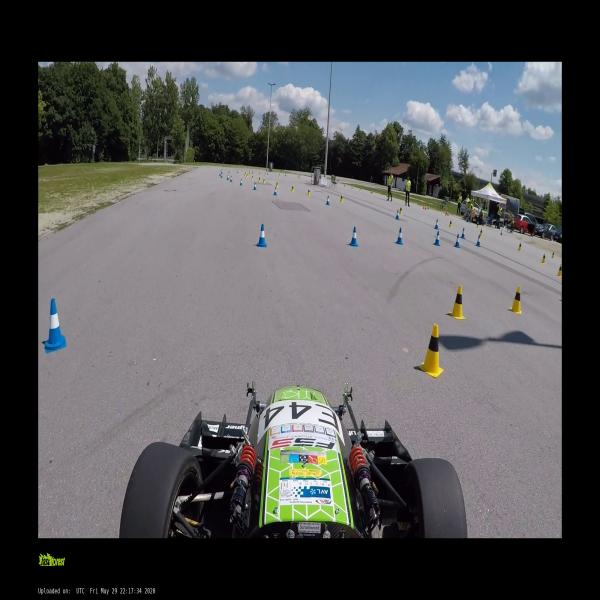blue_cone: (46, 298, 66, 351), (256, 224, 267, 247), (348, 227, 358, 247), (396, 227, 403, 245), (433, 231, 441, 246), (454, 233, 460, 249), (460, 226, 466, 240), (476, 235, 481, 248), (325, 196, 330, 205), (434, 219, 438, 230), (395, 210, 399, 221), (273, 188, 277, 196), (252, 183, 256, 190), (229, 176, 233, 183), (239, 178, 242, 186), (499, 230, 503, 236), (228, 176, 232, 182), (226, 175, 230, 180), (219, 170, 222, 175), (220, 169, 223, 174), (220, 173, 222, 178), (252, 170, 254, 174)
orange_cone: (423, 205, 427, 210), (422, 205, 425, 210)
yellow_cone: (420, 324, 442, 376), (448, 285, 466, 320), (511, 286, 522, 315), (556, 264, 562, 278), (540, 253, 546, 265), (517, 242, 522, 251), (398, 207, 403, 215), (339, 194, 343, 203), (550, 251, 555, 258), (290, 185, 295, 192), (306, 189, 310, 197), (479, 229, 483, 237), (258, 178, 263, 184), (257, 176, 261, 183), (449, 219, 452, 228), (444, 211, 448, 217), (250, 175, 254, 180), (243, 172, 247, 177), (275, 181, 278, 187), (476, 222, 479, 228), (262, 178, 265, 184), (560, 289, 561, 301), (246, 173, 248, 178), (248, 171, 250, 175)
